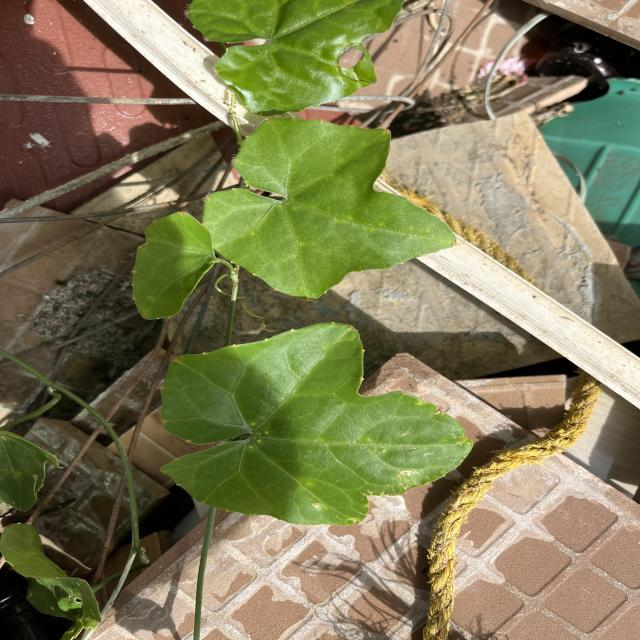Coccinia grandis: (158, 321, 478, 529), (202, 115, 460, 302)
